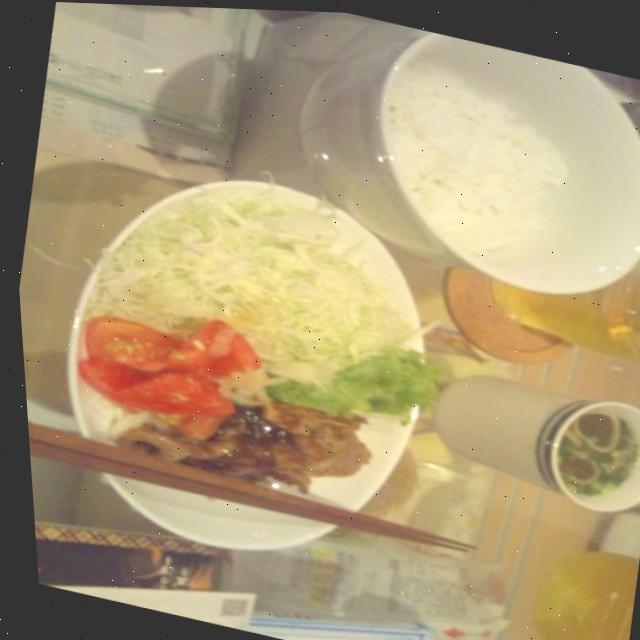汤锅炖物: (533, 385, 640, 506)
猪肉菜式: (107, 354, 385, 522)
米饭主食: (345, 26, 618, 283)
蔬菜料理: (58, 163, 424, 481)
